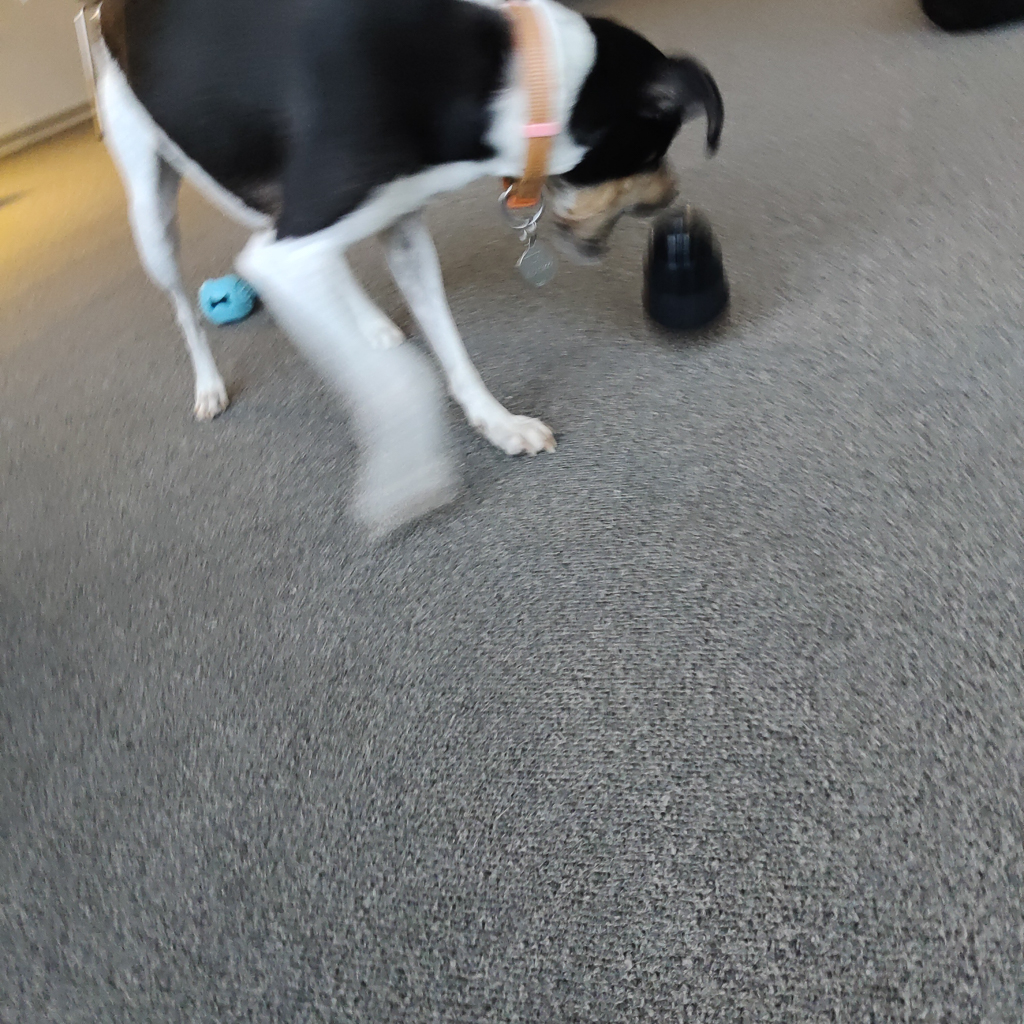Dog: (77, 0, 747, 565)
